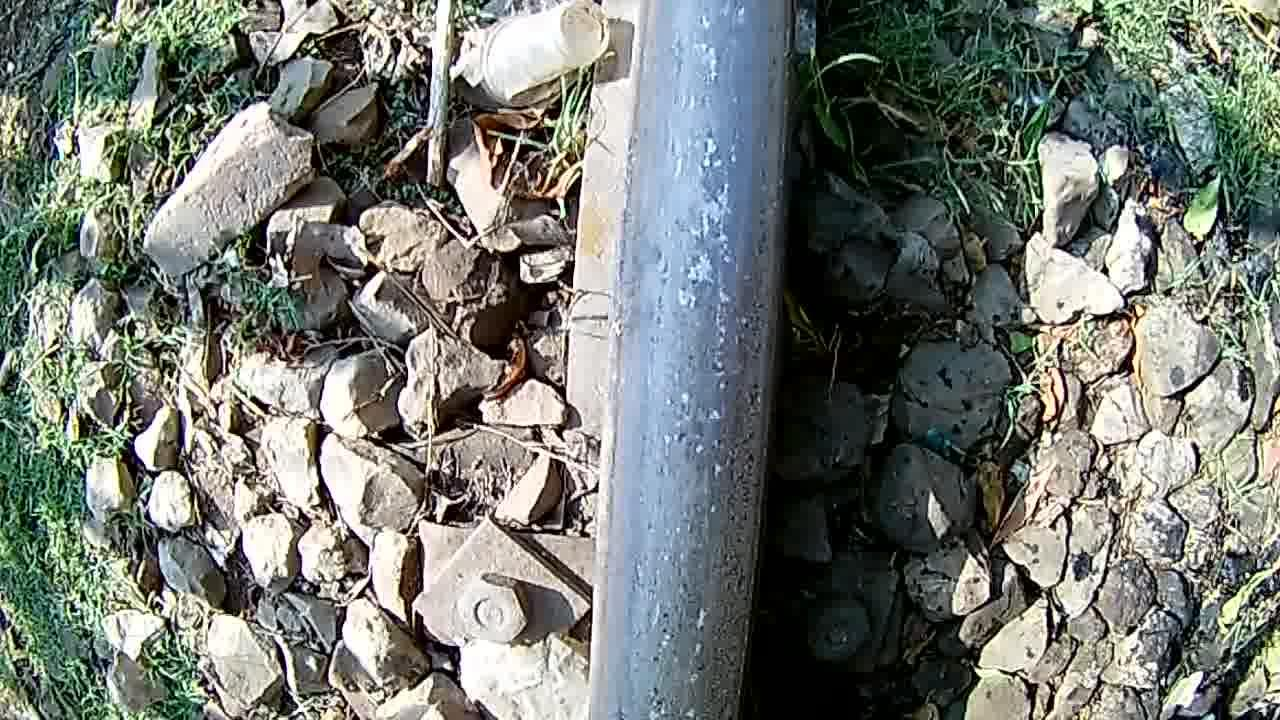clip_missing: (604, 1, 802, 720)
